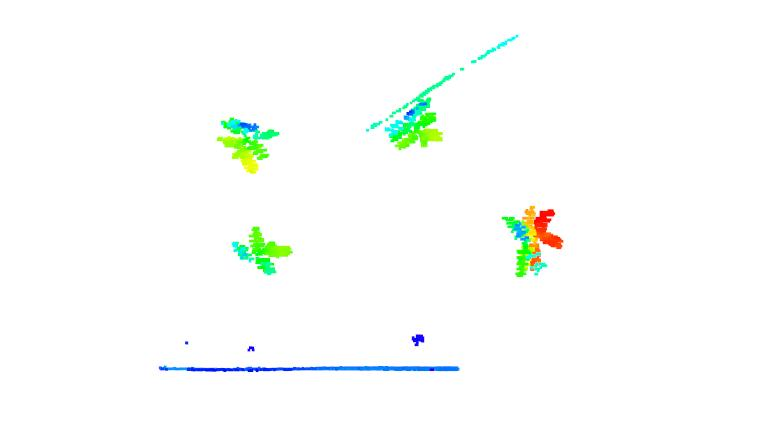chickpea: (501, 204, 563, 277), (215, 114, 282, 174), (384, 96, 449, 151), (230, 224, 293, 277)
